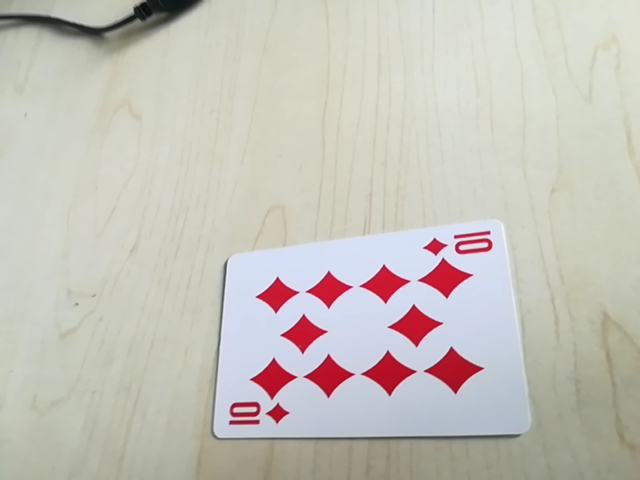fk 10: (419, 224, 499, 263), (222, 399, 291, 434)
